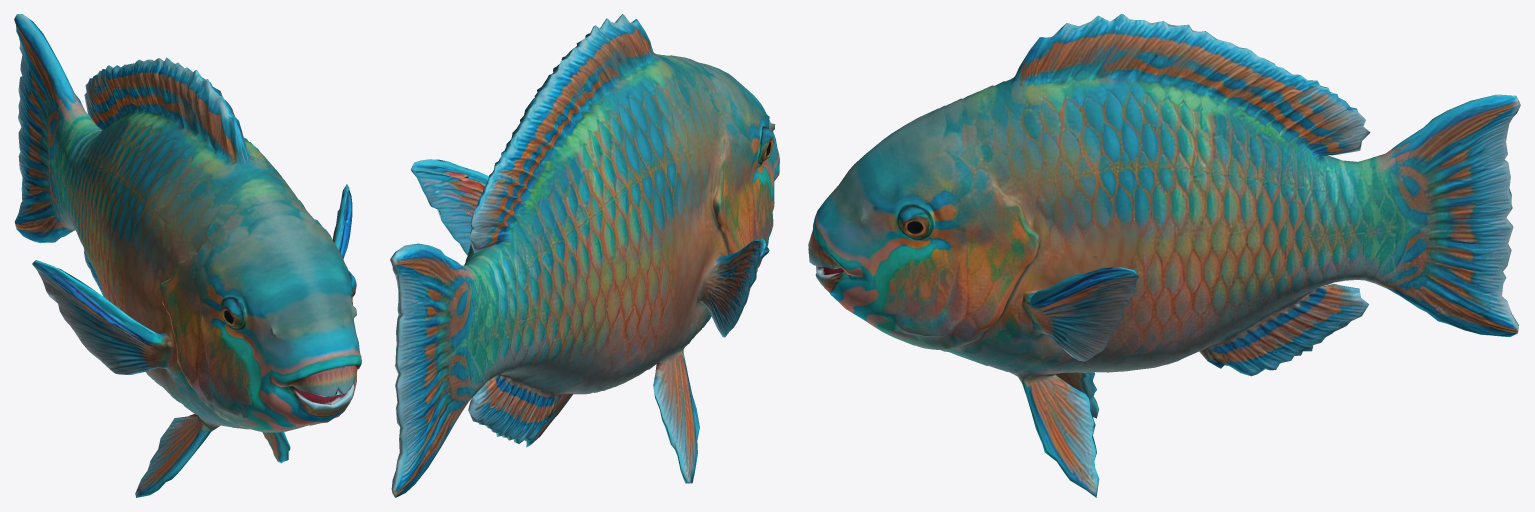
Rendered from parrotfish.glb.
3 renders of one model, left to right at view 1: azimuth 30°, elevation 25°; view 2: azimuth 150°, elevation 25°; view 3: azimuth 270°, elevation 25°, orthographic. The views are drawn at different scales.
Parts seen in each view (by area): view 1: tripo_node_0751bd84-35cd-423e-ab5e-79ab902601de; view 2: tripo_node_0751bd84-35cd-423e-ab5e-79ab902601de; view 3: tripo_node_0751bd84-35cd-423e-ab5e-79ab902601de.
Part boxes in pixels (x1,y1,x2,y2): tripo_node_0751bd84-35cd-423e-ab5e-79ab902601de: [14, 14, 361, 497]; tripo_node_0751bd84-35cd-423e-ab5e-79ab902601de: [390, 14, 779, 497]; tripo_node_0751bd84-35cd-423e-ab5e-79ab902601de: [808, 14, 1520, 497].
Size of the model in its own units: 0.5633 by 0.6887 by 1.
1 material, 1 textured.
